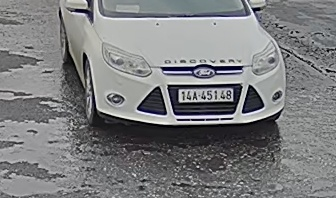vehicle plate: (176, 87, 234, 103)
